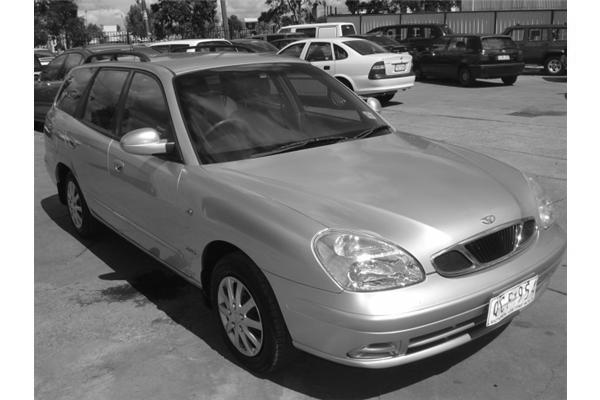car: (43, 39, 569, 379)
